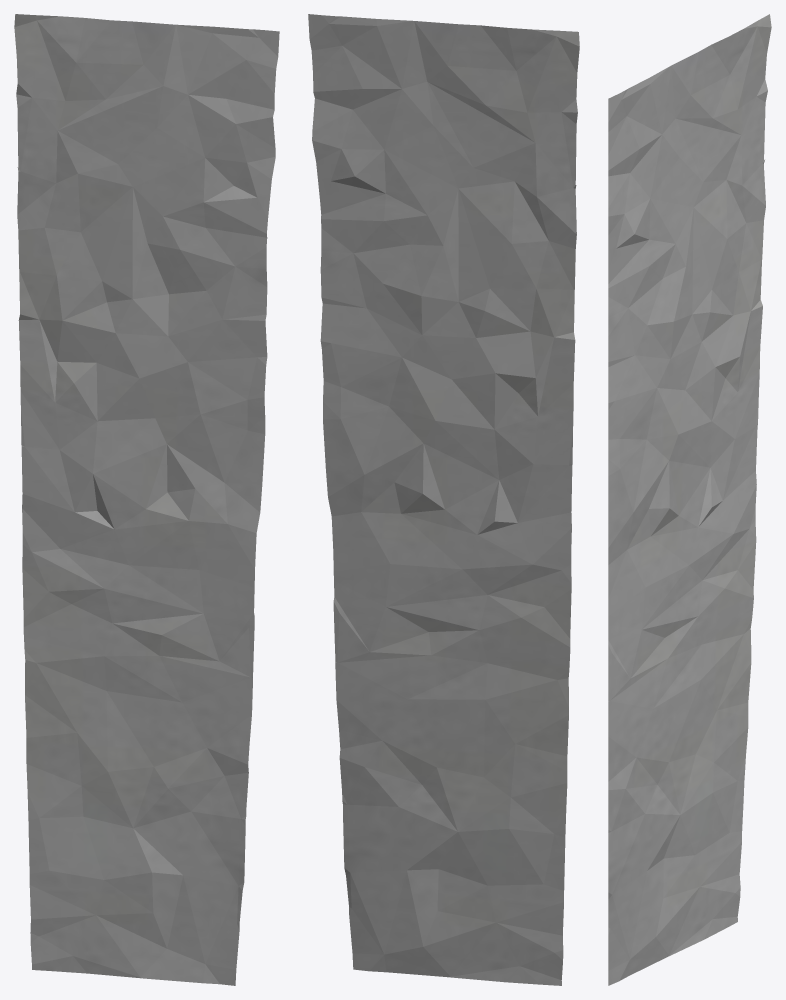
3 views of the same model, side by side, from view 1: azimuth 30°, elevation 25°; view 2: azimuth 210°, elevation 25°; view 3: azimuth 270°, elevation 25° (orthographic). The views are drawn at different scales.
Size of the model in its own units: 0.1675 by 0.8374 by 0.1365.
Materials: 1 (1 with a texture image).
